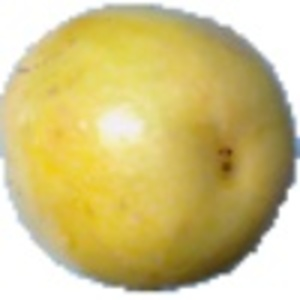maracujá: (1, 4, 300, 296)
